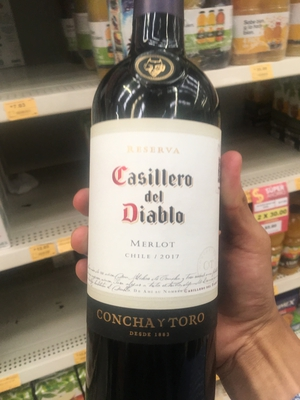casillero del diablo merlot: (80, 26, 236, 400)
